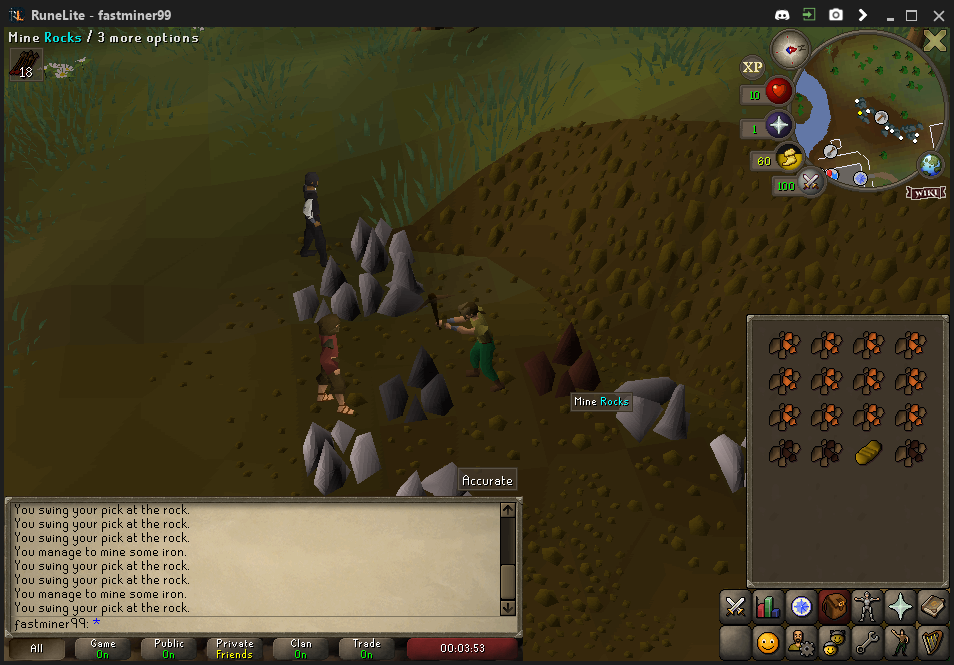depleted: (372, 348, 457, 424)
ore: (519, 317, 612, 400)
